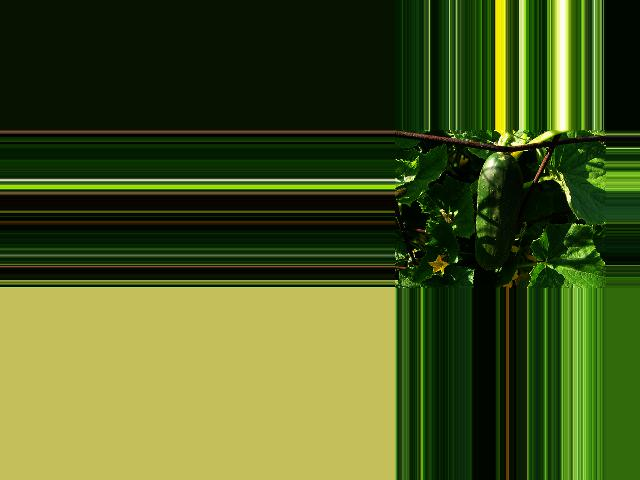cucumber: (475, 152, 524, 270)
